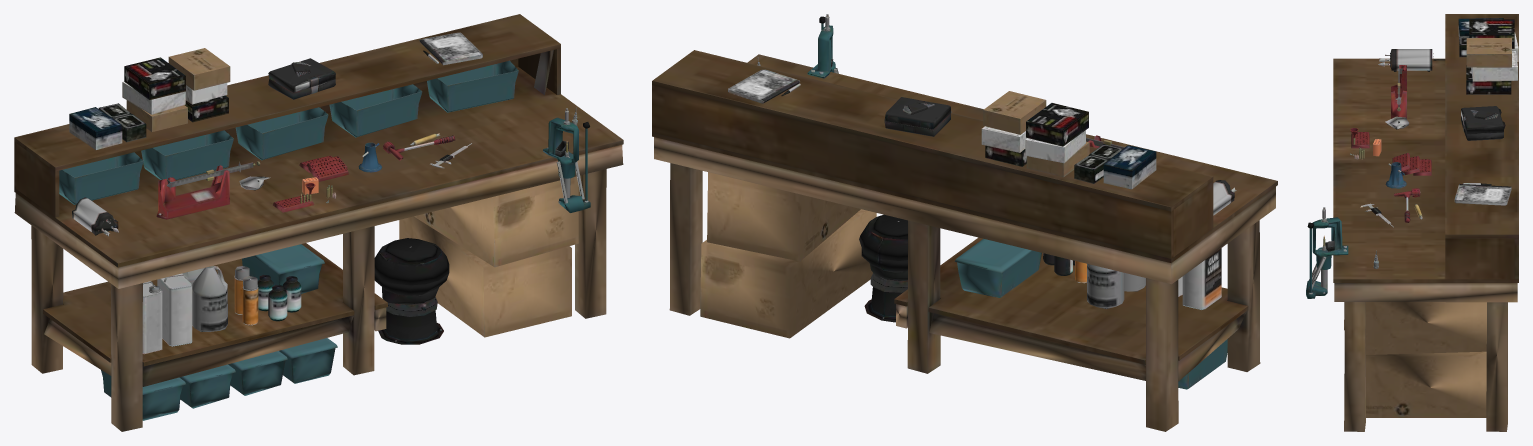
The model's file is reloading-bench.gltf.
The picture shows the model from 3 angles, left to right: view 1: azimuth 30°, elevation 25°; view 2: azimuth 150°, elevation 25°; view 3: azimuth 270°, elevation 25°; orthographic projection. The views are drawn at different scales.
Parts seen in each view (by area): view 1: RootNode; view 2: RootNode; view 3: RootNode.
Part boxes in pixels (x1,y1,x2,y2): RootNode: (14,14,623,431); RootNode: (652,14,1277,431); RootNode: (1306,14,1518,431).
Bounding box in the file's own units: 2.44 × 1.26 × 0.9937.
4 materials, 3 textured.
